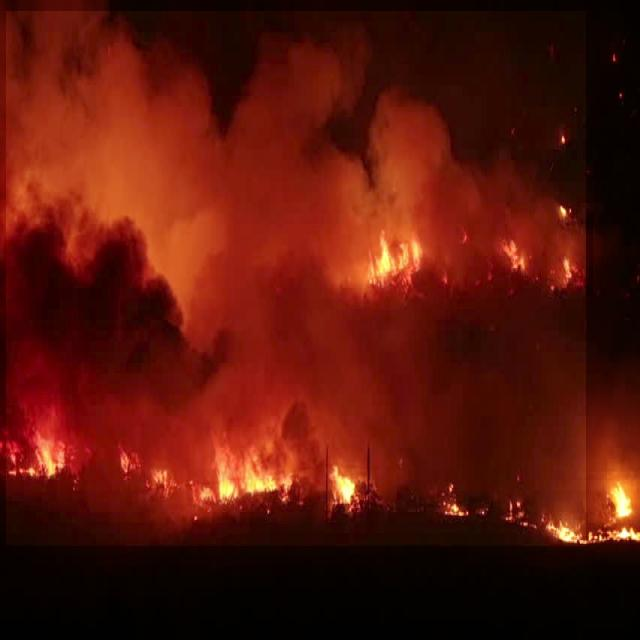Fire: (8, 392, 640, 554), (349, 211, 593, 296)
Smoke: (6, 11, 586, 546)
